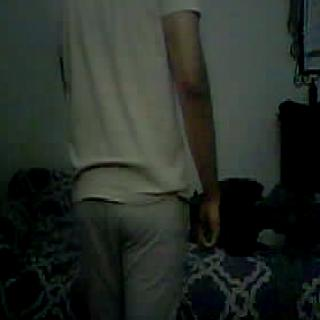White Sweatpants: (78, 195, 189, 320)
Yellow T-Shirt: (63, 0, 195, 195)
